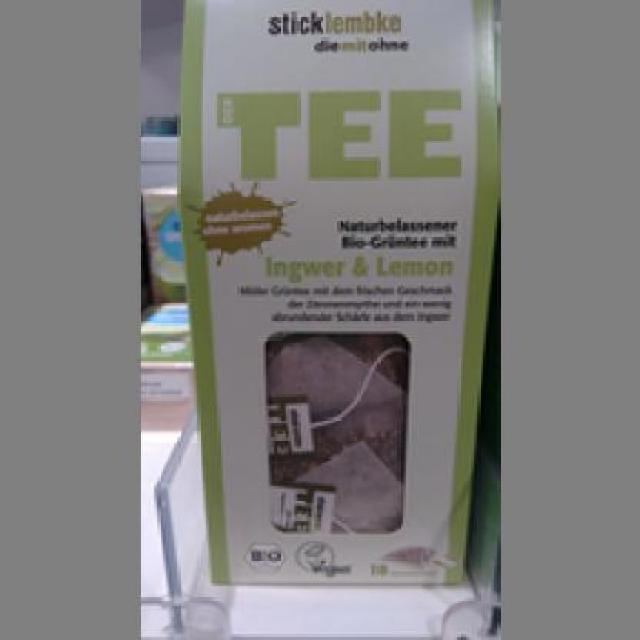Tea: (172, 0, 498, 586)
